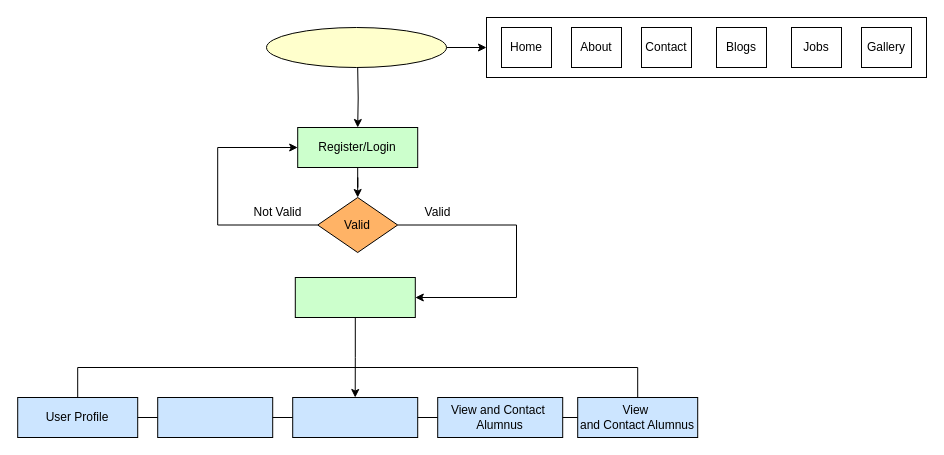
This 944x455 diagram has some shape labels left out. The centre of each missing label's shape, as x and y in pixels:
Access Study Materials: [355,417]
Dashboard: [354,297]
Open Website: [356,47]
Write Comments: [215,417]
